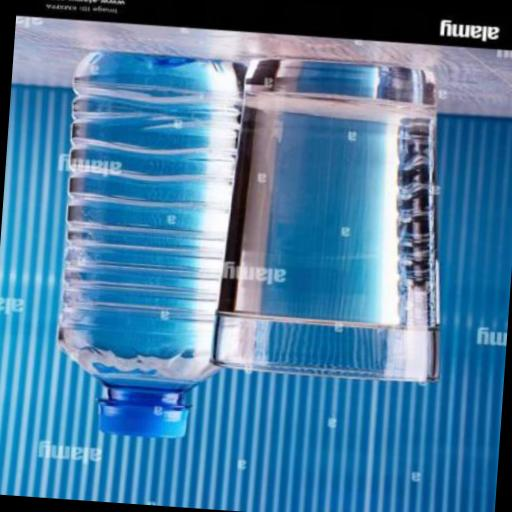Coca: (16, 34, 286, 455)
